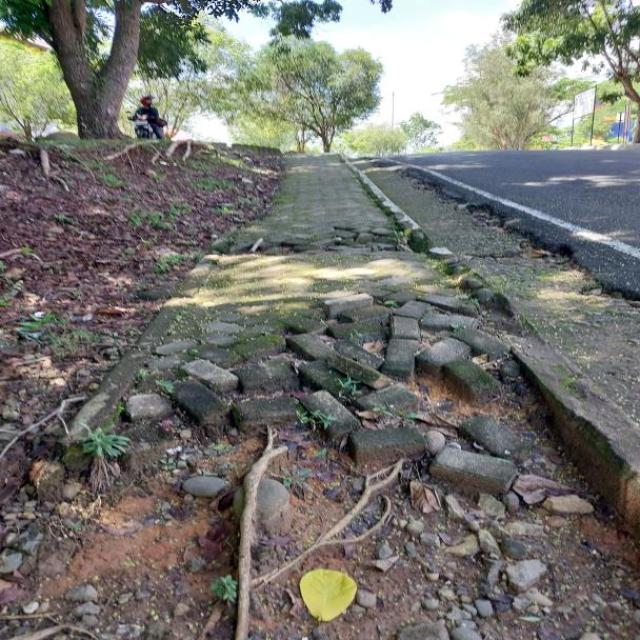stones ahead at: (100, 330, 570, 513)
